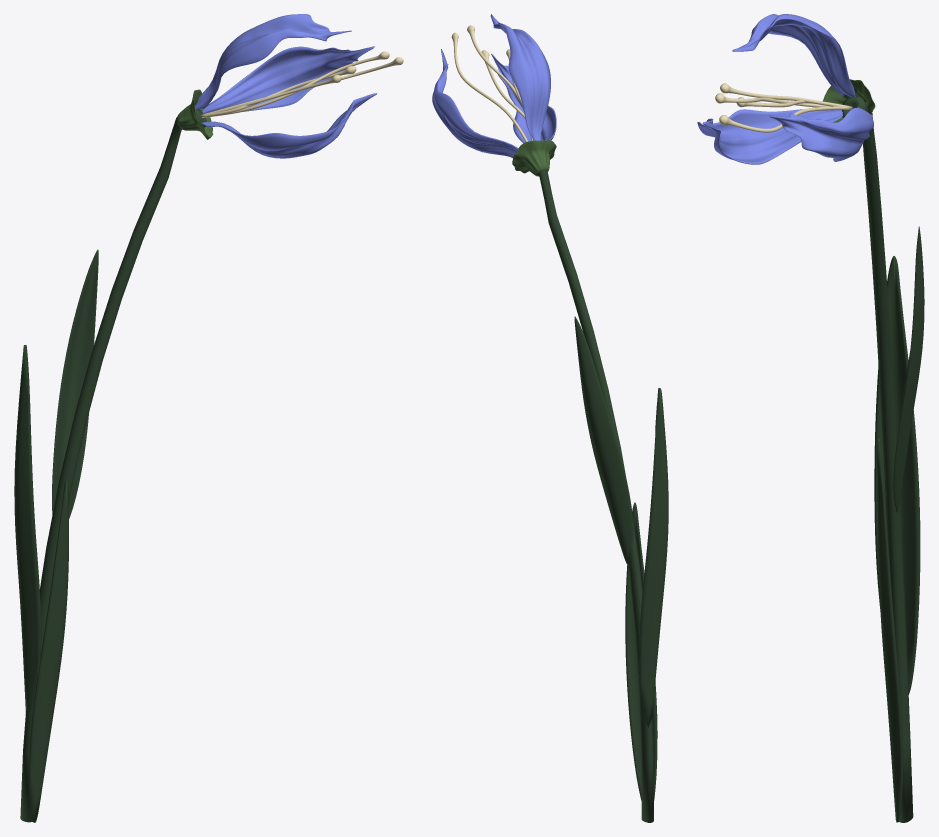
The model's file is SM_Iris_Small.fbx.
3 renders of one model, left to right at view 1: azimuth 30°, elevation 25°; view 2: azimuth 150°, elevation 25°; view 3: azimuth 270°, elevation 25°, orthographic. The views are drawn at different scales.
Parts seen in each view (by area): view 1: SM_Flower_Iris_Small; view 2: SM_Flower_Iris_Small; view 3: SM_Flower_Iris_Small.
Part boxes in pixels (bbox=[...]): SM_Flower_Iris_Small: bbox=[14, 14, 403, 822]; SM_Flower_Iris_Small: bbox=[432, 14, 668, 822]; SM_Flower_Iris_Small: bbox=[697, 14, 924, 822].
Size of the model in its own units: 76.28 by 185 by 41.2.
